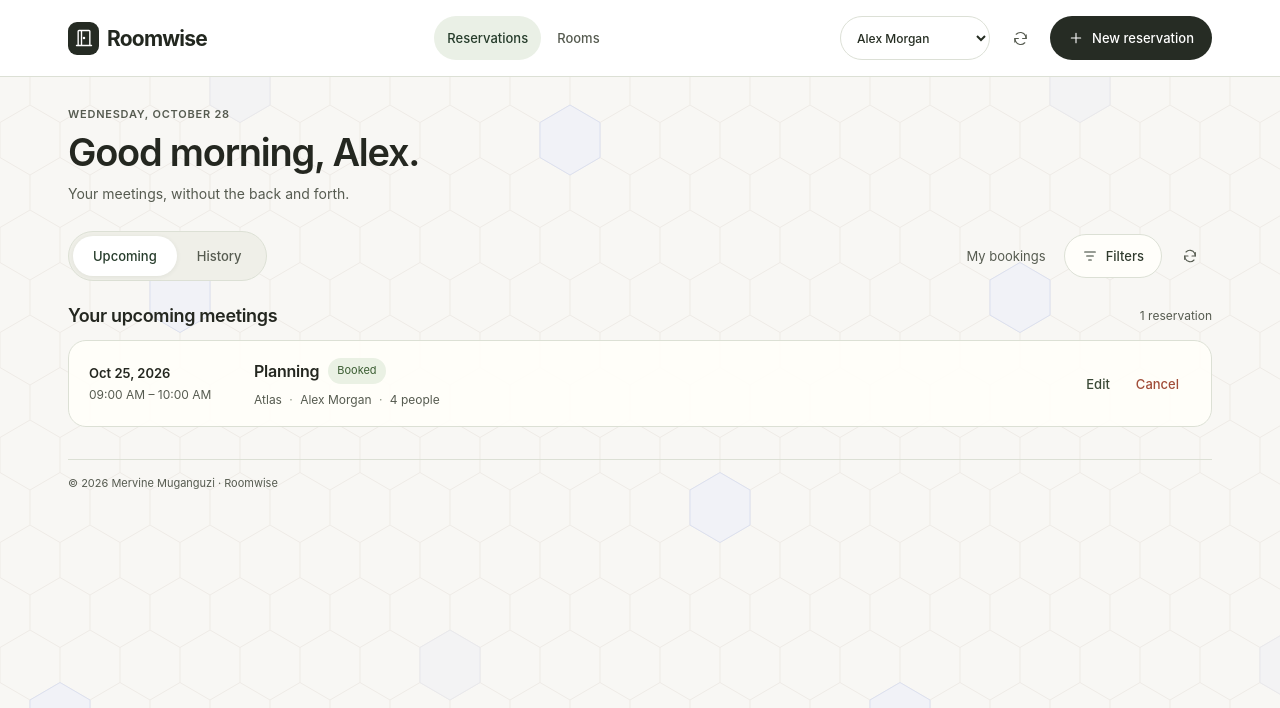
Scenario: workspace › refreshes a stale schedule after an action fails and clears that error on explicit refresh
Expected: the heading "Planning" is shown, [254, 361, 319, 381]
What coordinates should you click on to do the following:
click the button "Cancel"
I would click on:
 (1157, 384)
Its box is [1124, 362, 1191, 406].
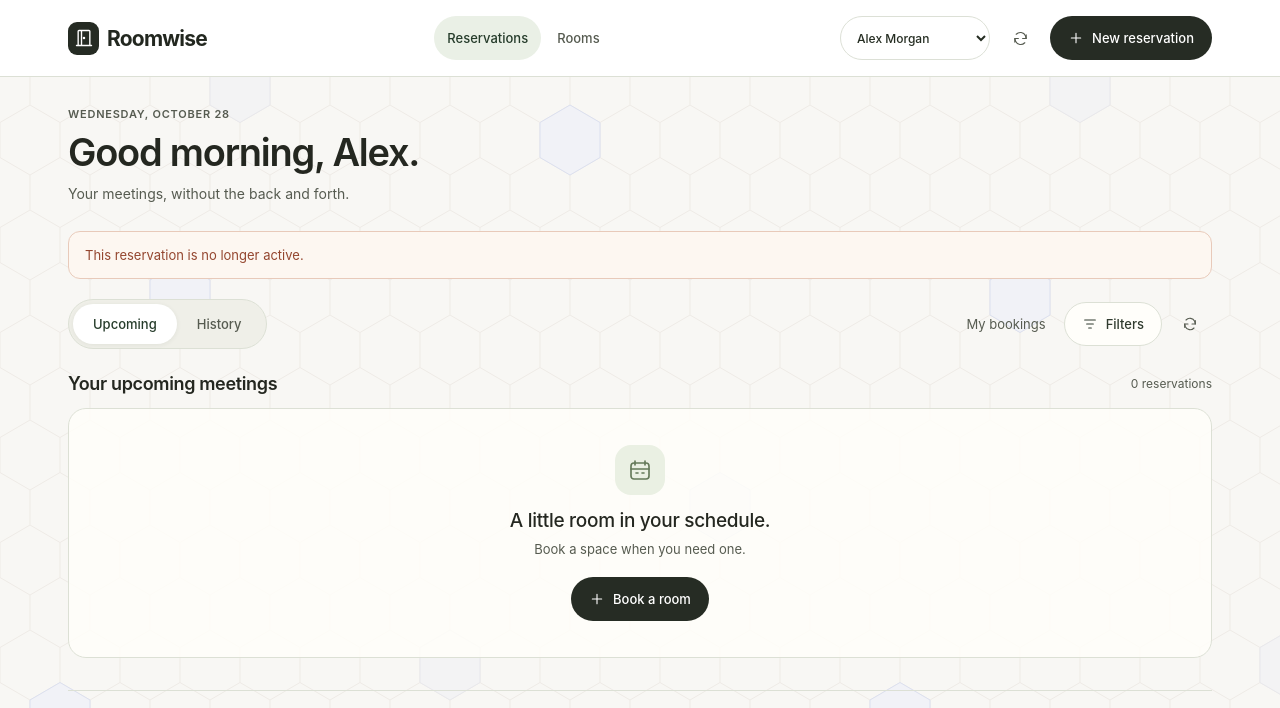
Now the message shows "no longer active", box [85, 247, 304, 263]
Now the heading "A little room in your schedule." is shown, box [510, 509, 770, 532]
Now the heading "Planning" is gone
What coordinates should you click on to do the following:
click the button named "Refresh schedule"
I would click on:
 (1190, 324)
Its box is [1168, 302, 1212, 346].
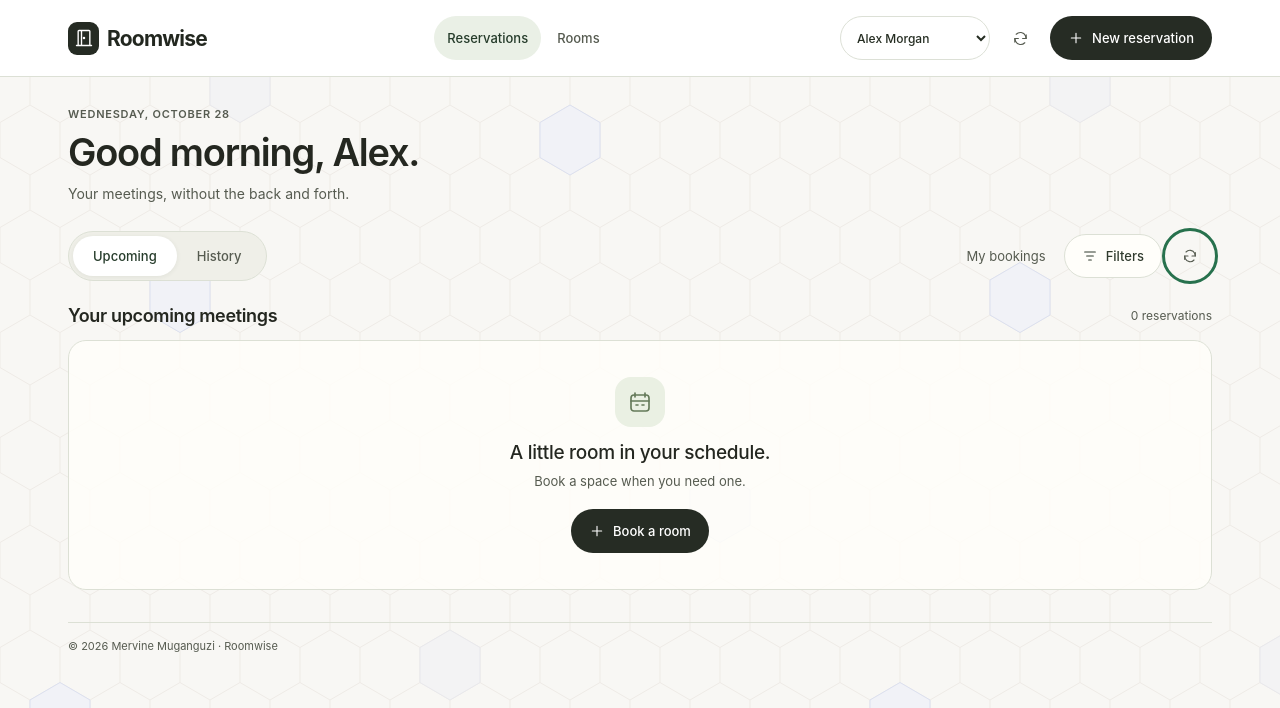
Now the message "This reservation is no longer active." is gone
